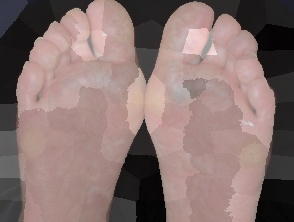SJS-TEN: (122, 0, 294, 222), (10, 0, 150, 222)
